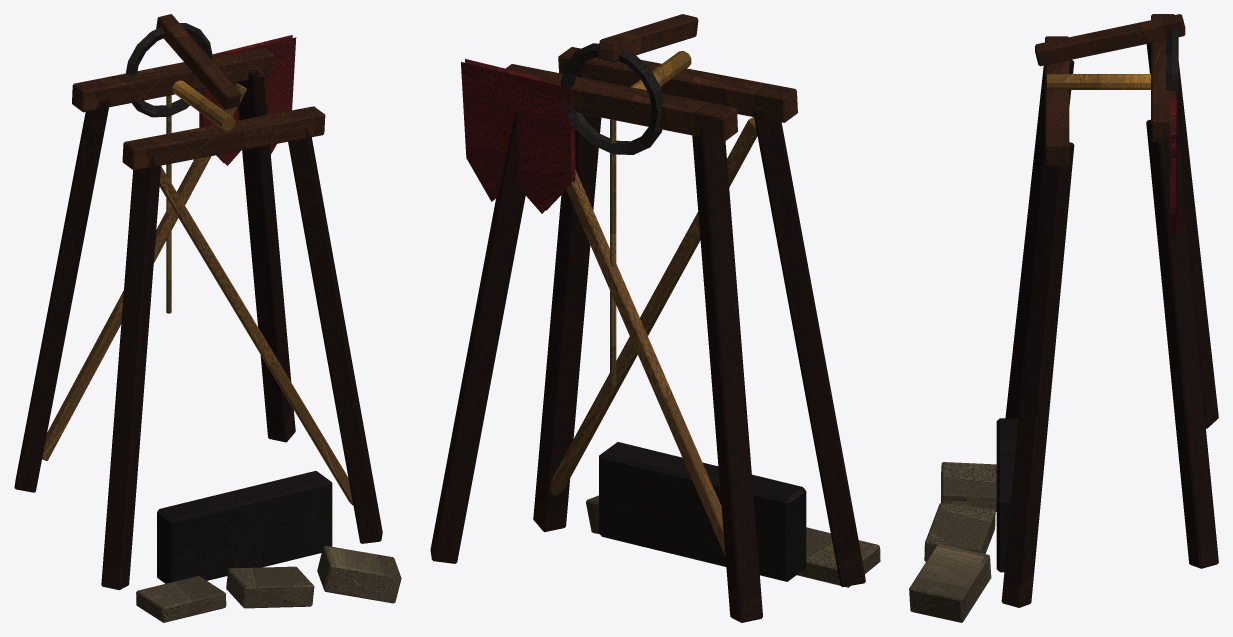
File: seized_headframe.glb
3 views of the same model, side by side, from view 1: azimuth 30°, elevation 25°; view 2: azimuth 150°, elevation 25°; view 3: azimuth 270°, elevation 25° (orthographic). The views are drawn at different scales.
Visible parts, largest first — view 1: seized_headframe; view 2: seized_headframe; view 3: seized_headframe.
Part boxes in pixels (x1,y1,x2,y2): seized_headframe: [14, 14, 401, 622]; seized_headframe: [430, 14, 880, 622]; seized_headframe: [909, 14, 1218, 622].
Size of the model in its own units: 4.16 by 7.38 by 3.79.
Materials: 1 (1 with a texture image).
